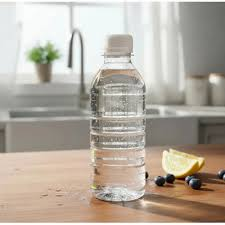Botella: (90, 34, 145, 201)
